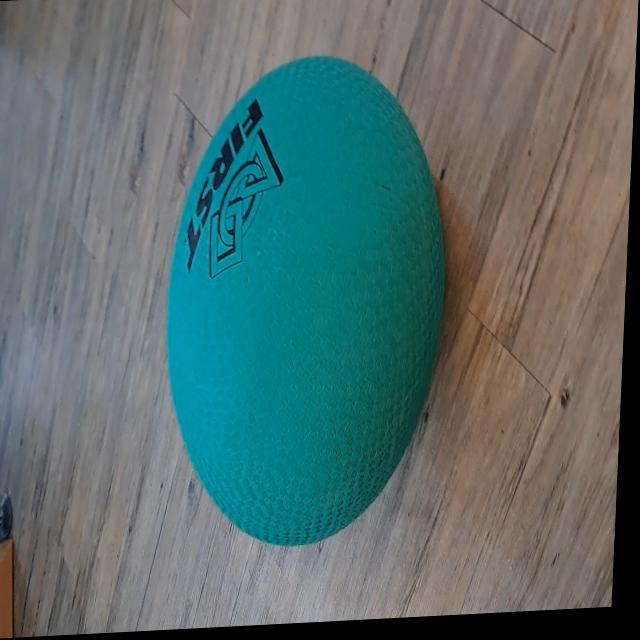ALGAE: (154, 46, 458, 555)
